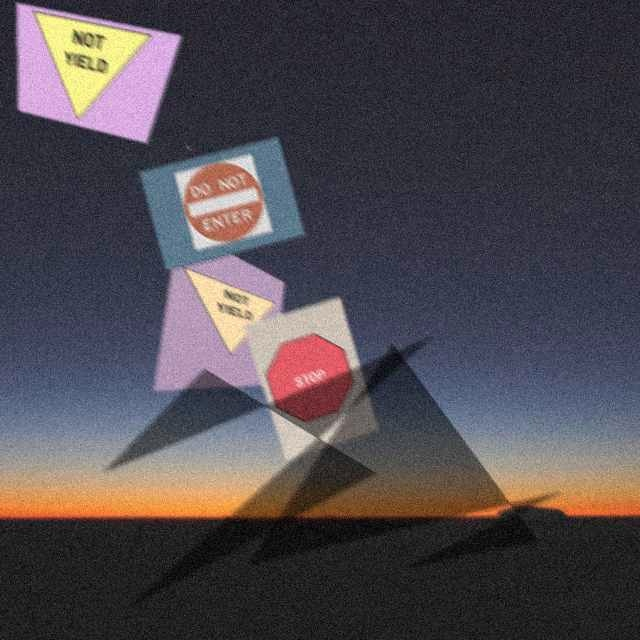DO_NOT_ENTER: (173, 154, 273, 253)
NOT_YIELD: (26, 9, 152, 137), (170, 268, 281, 363)
STOP: (254, 328, 366, 432)
